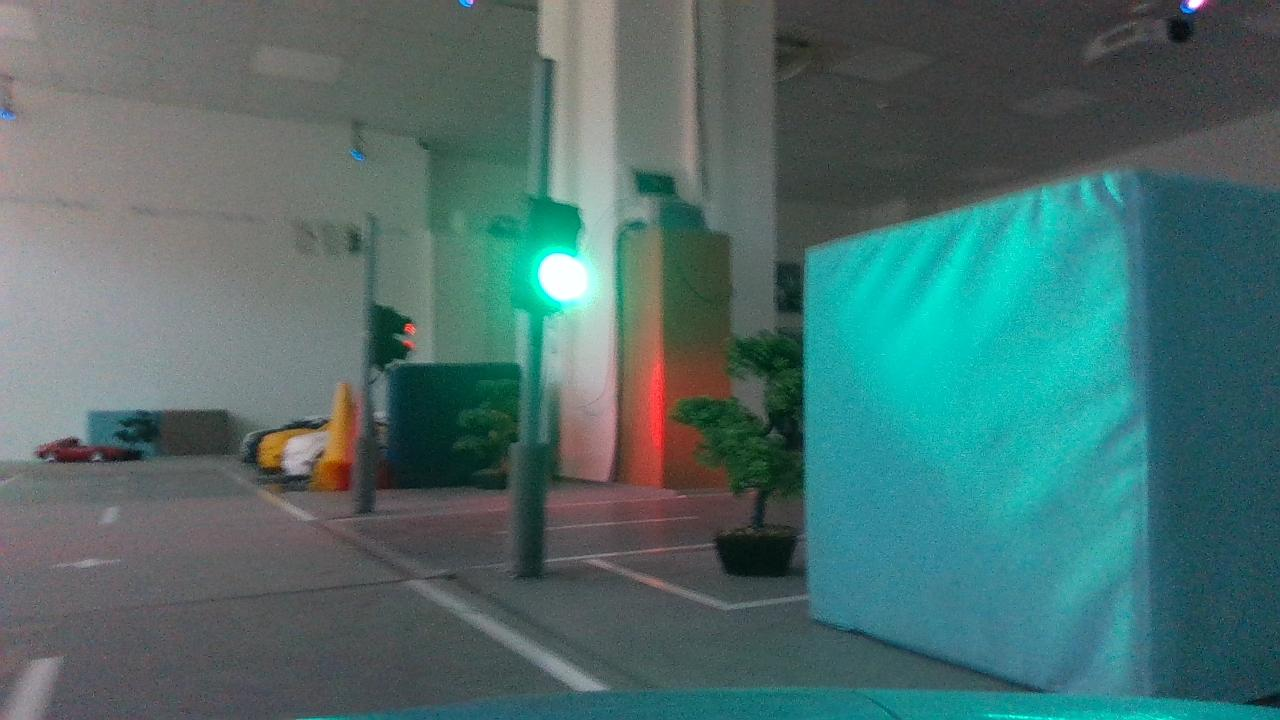traffic_light_green: (493, 183, 609, 327)
